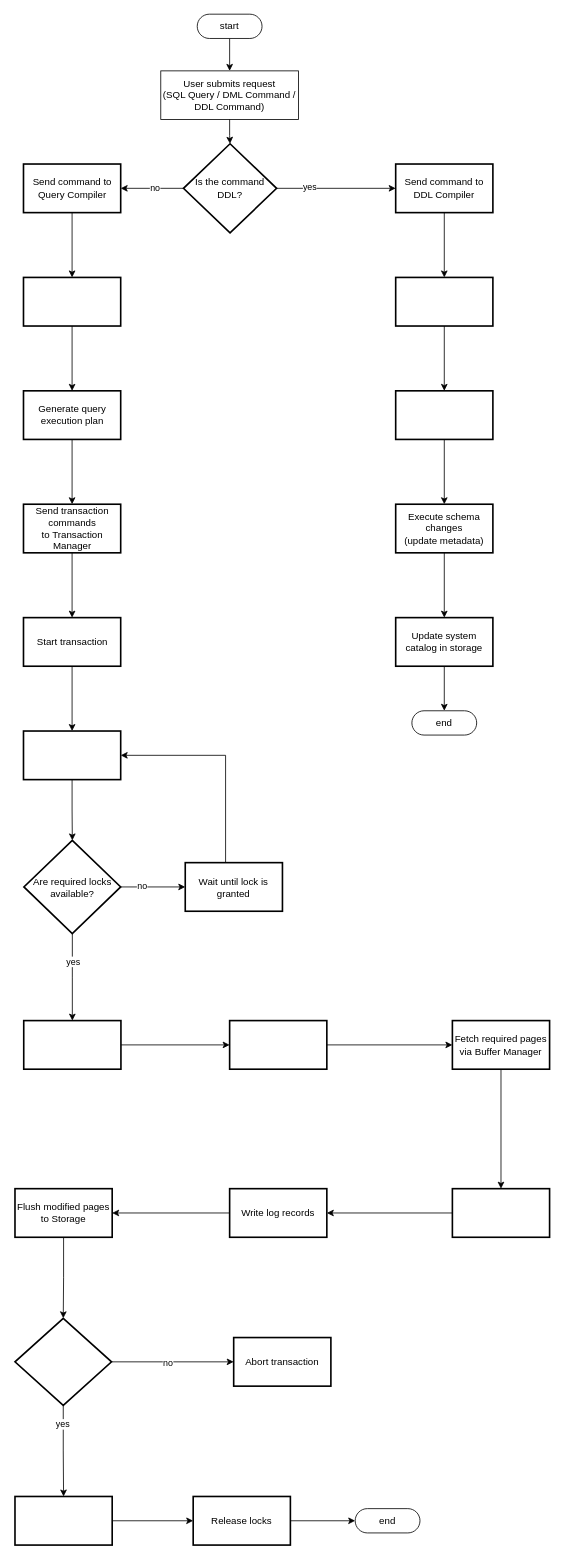
Some shapes in this 564 by 1560 pixel diagram are drawn without their labels. The shapes that lost their labels are listed below. From the top down, each one's box as (x1, y1, x2, y2) in pixels, then its label:
(22, 276, 121, 326): Parse and optimize query
(394, 276, 493, 326): Parse and validate schema command
(394, 390, 493, 440): Generate schema execution plan
(22, 730, 121, 780): Request locks from Concurrency Control
(23, 1019, 121, 1070): Execute query plan
(228, 1019, 327, 1070): Request records using Index/File/Record Manager
(451, 1187, 550, 1238): Read / write data in Buffers
(14, 1317, 112, 1406): Did the operation succeed?
(14, 1495, 113, 1545): Commit transaction
